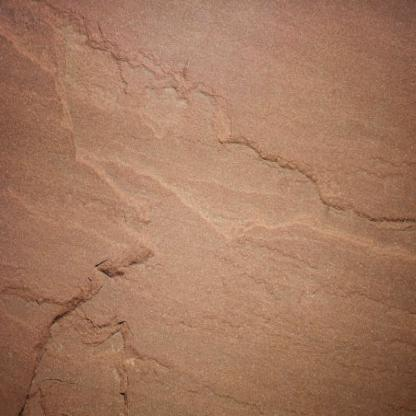Sedimentary_Sandstone: (0, 1, 416, 415)
